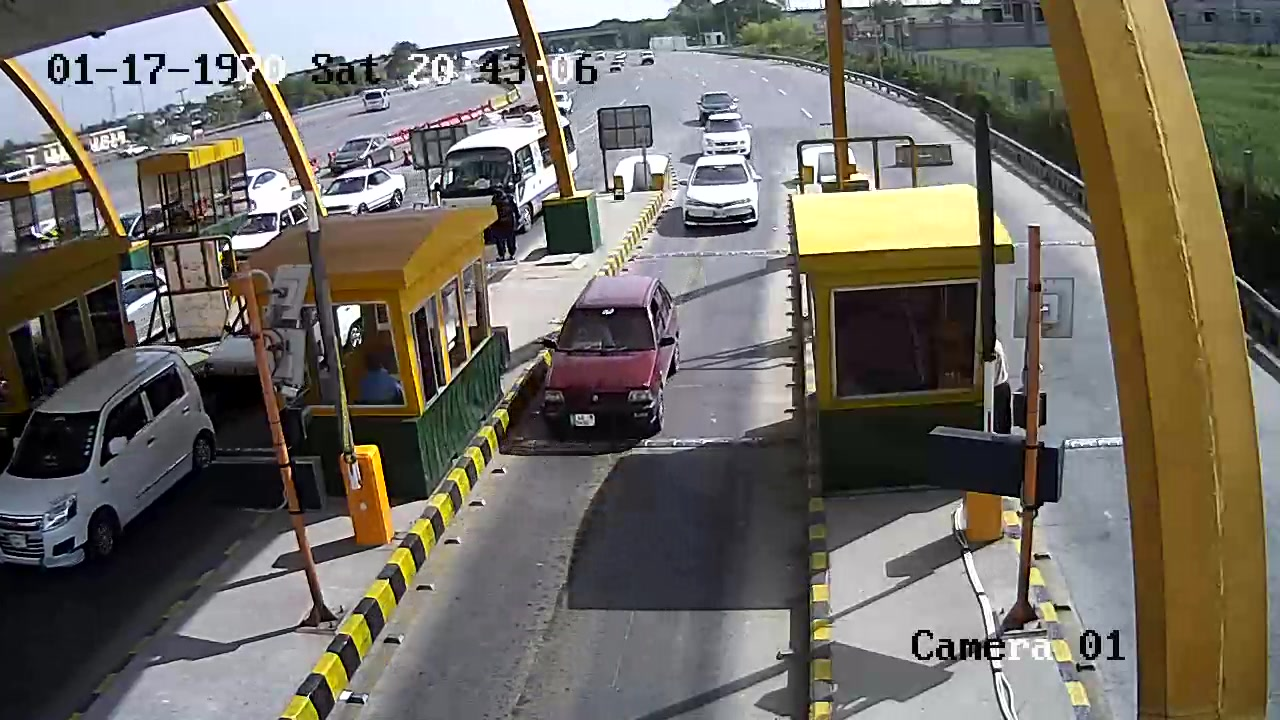F1: (532, 271, 686, 449)
